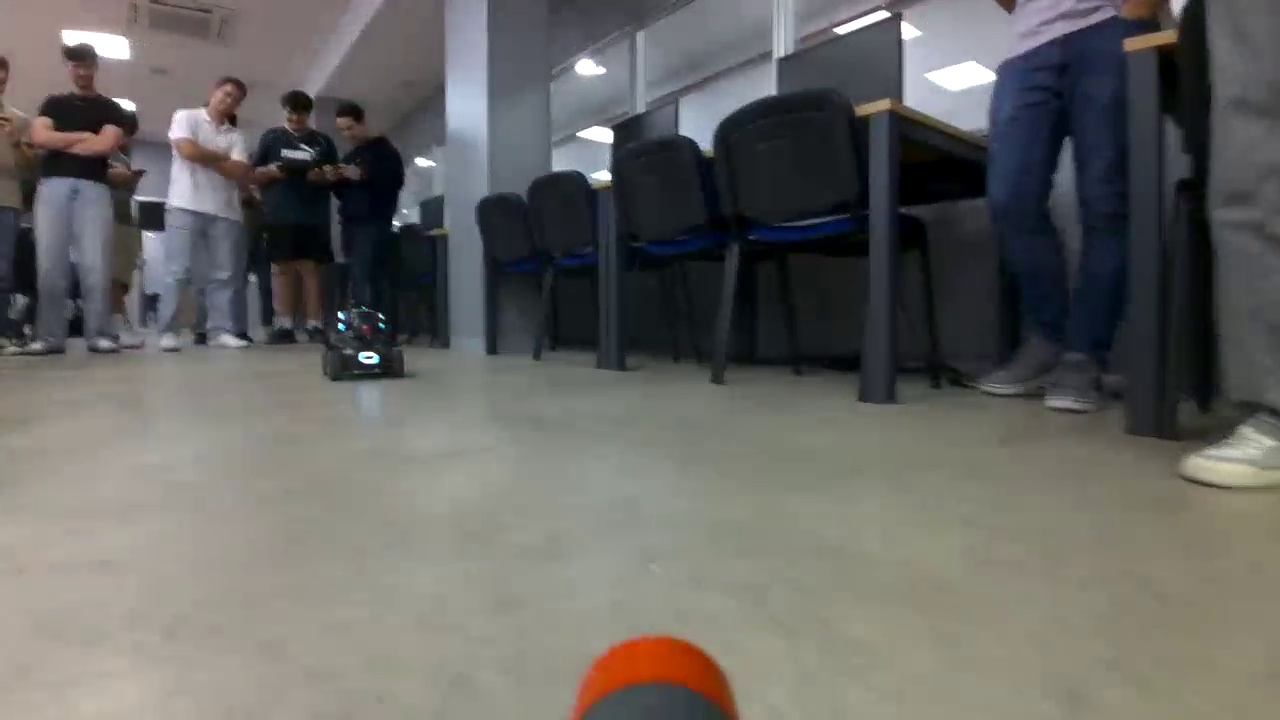robot: (320, 305, 410, 380)
